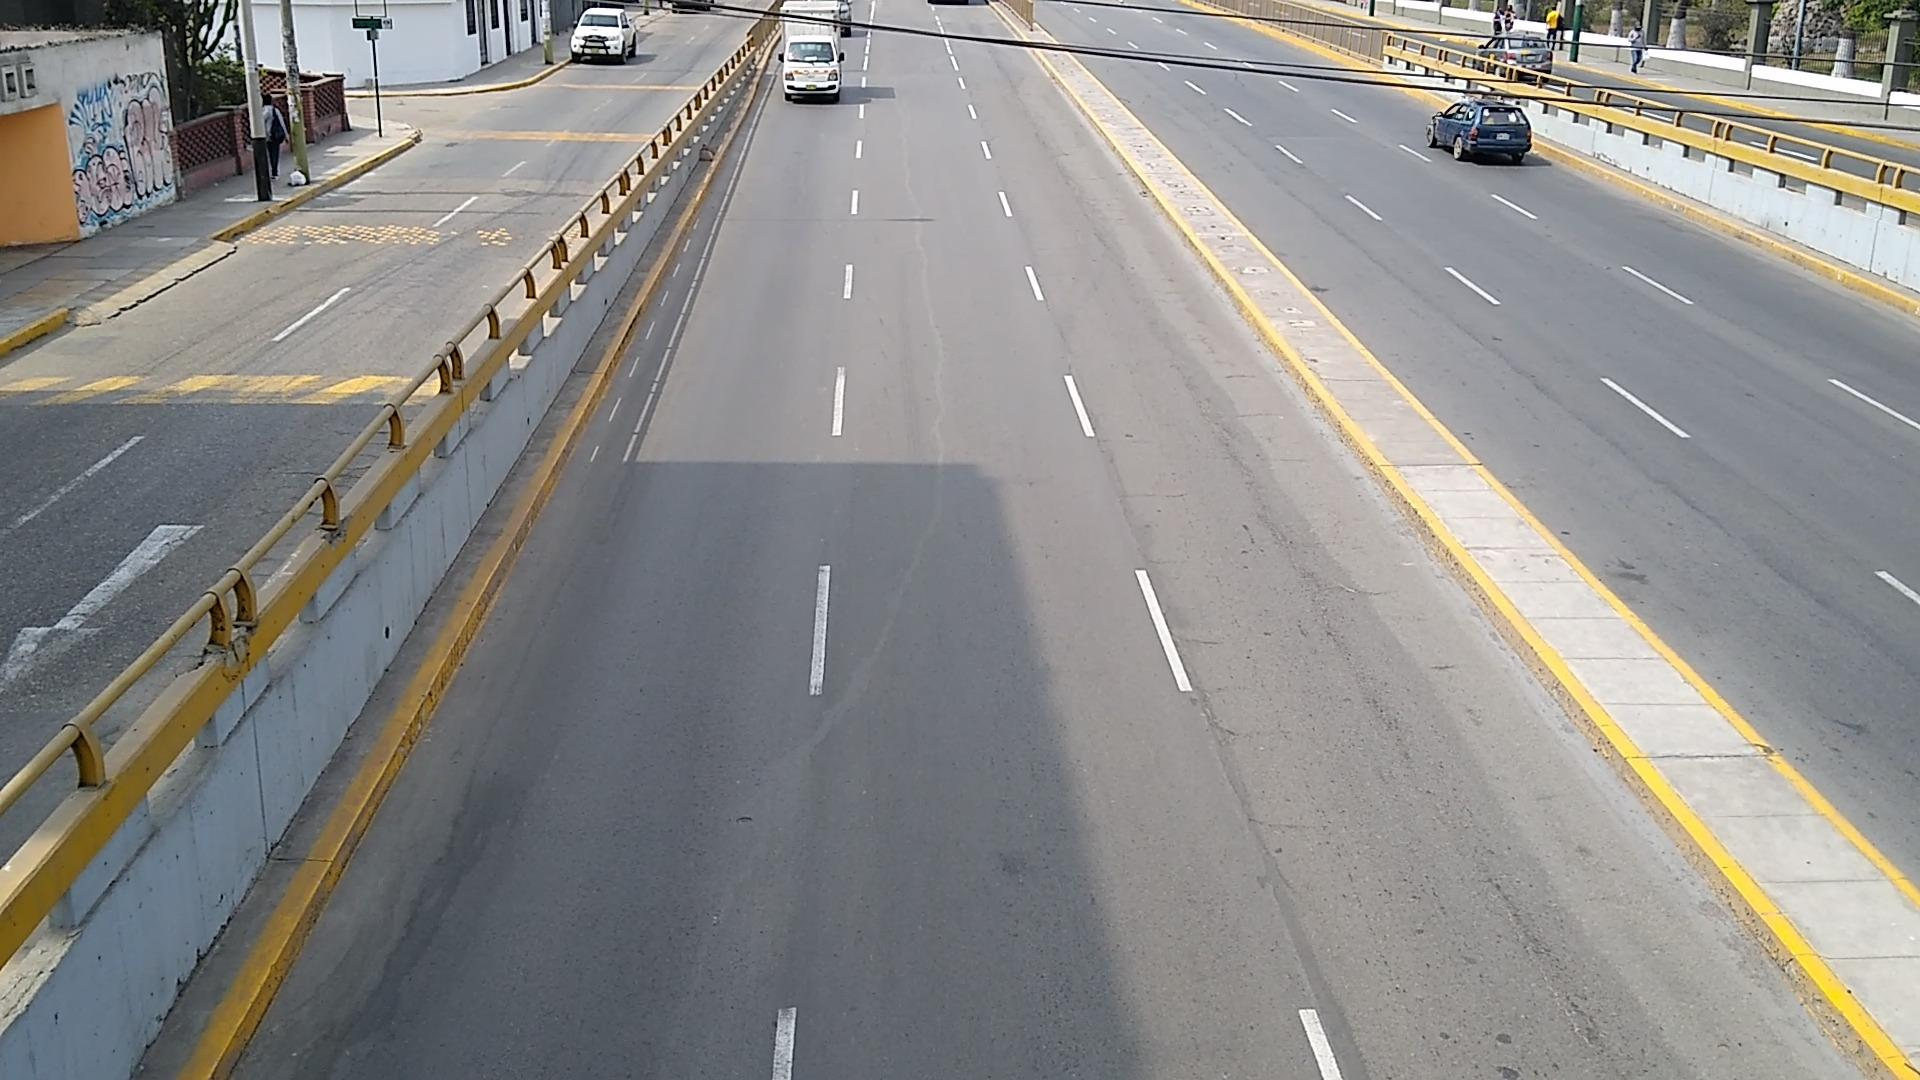car: (1425, 98, 1530, 165), (570, 8, 638, 58)
lorry: (780, 0, 844, 99)
